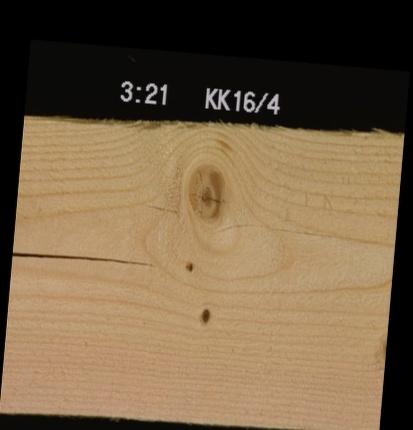small_knot: (198, 306, 209, 324), (181, 258, 193, 273)
sound_knot: (184, 163, 222, 220)
split: (11, 252, 156, 265)
wave: (22, 112, 209, 137)
